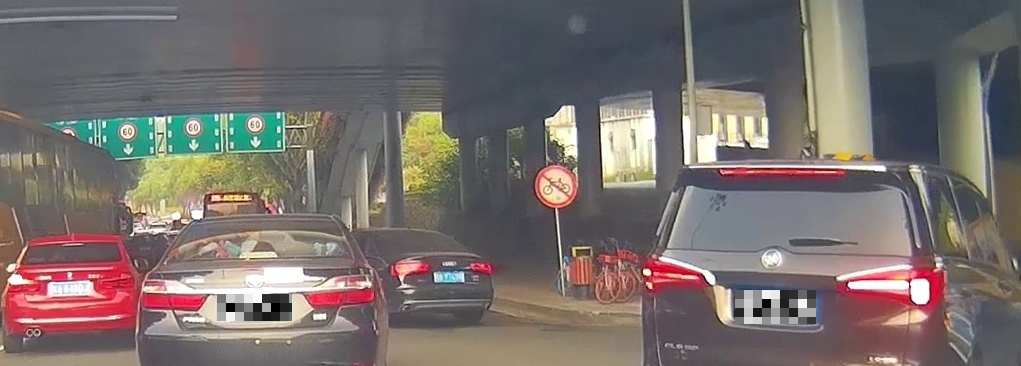L_light: (139, 278, 209, 312), (7, 274, 41, 292)
R_light: (302, 274, 374, 309), (99, 273, 134, 289)
T_light: (239, 251, 277, 259), (61, 243, 85, 246)
day-left: (0, 234, 137, 354)
day-no: (138, 213, 389, 366)
plate_1: (217, 294, 292, 321)
plate_2: (735, 290, 816, 324)
